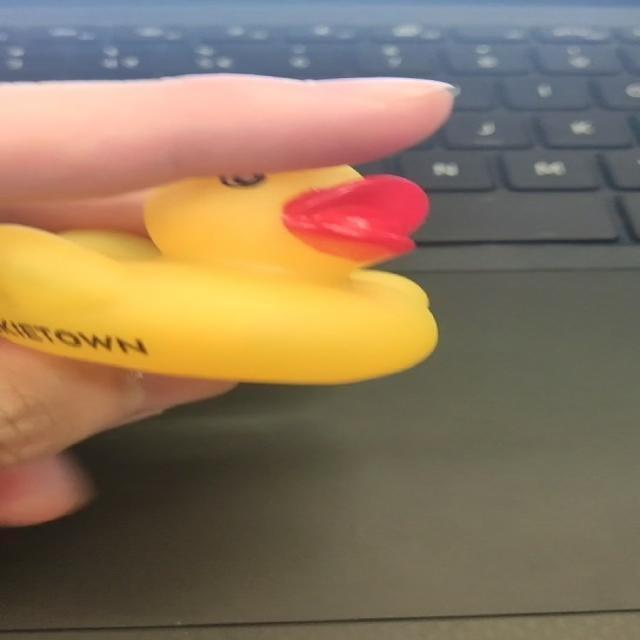rubber-duck: (0, 164, 435, 382)
